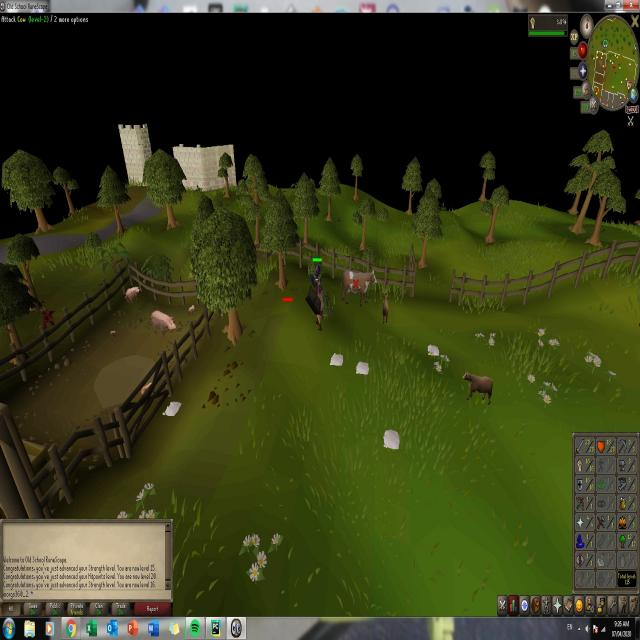cow: (342, 267, 377, 309), (462, 369, 494, 404), (381, 290, 390, 327)
player: (311, 260, 324, 333)
